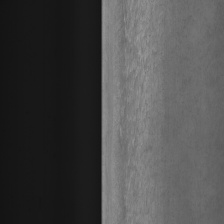silk_spot: (115, 7, 162, 210)
